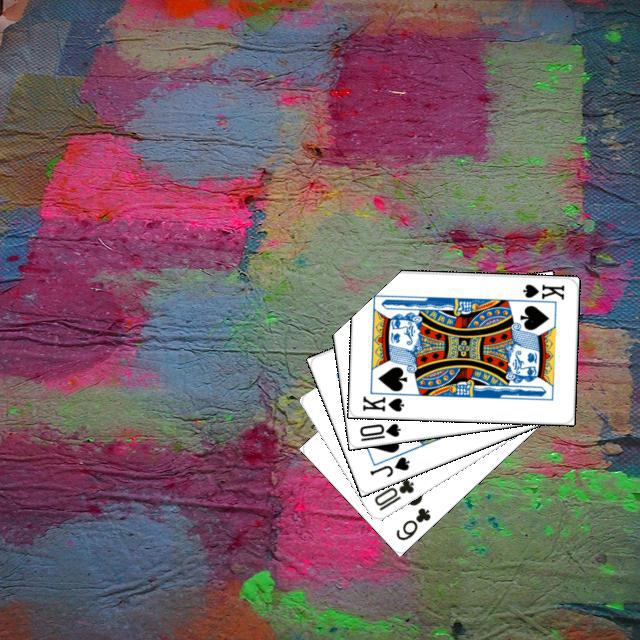10c: (369, 474, 416, 512)
10s: (355, 418, 402, 443)
6c: (391, 502, 432, 542)
Js: (365, 451, 411, 479)
Ks: (514, 279, 566, 304), (358, 391, 405, 413)
